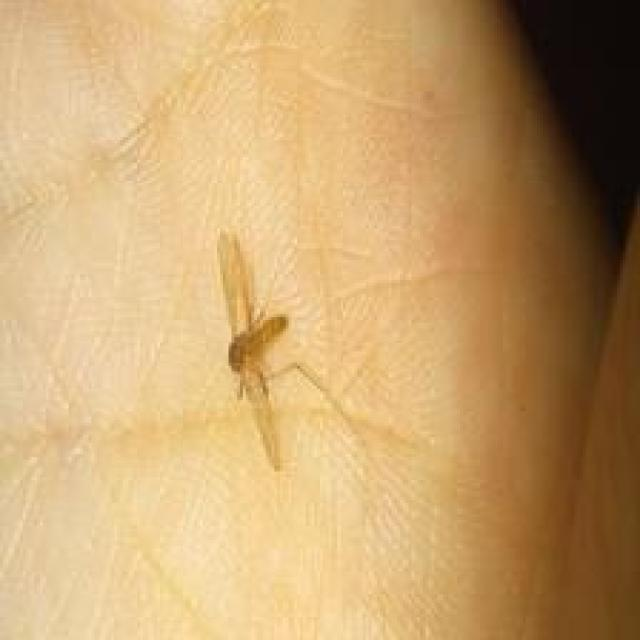Culex: (213, 226, 418, 474)
